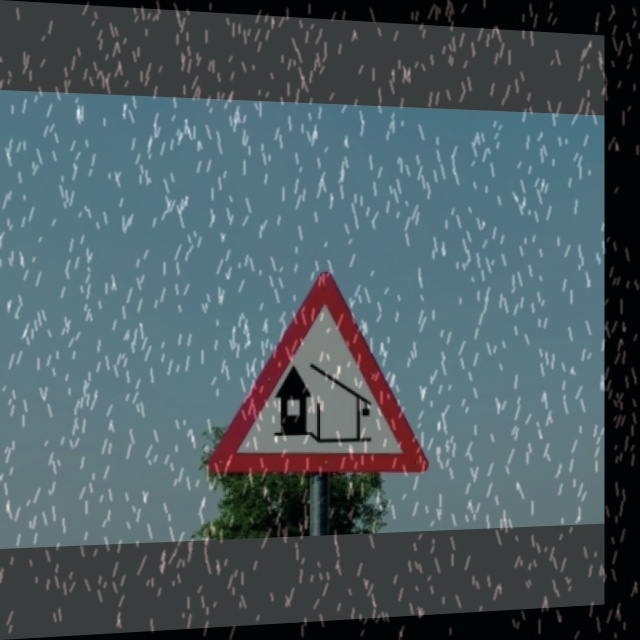Barrier_Ahead: (195, 260, 446, 486)
